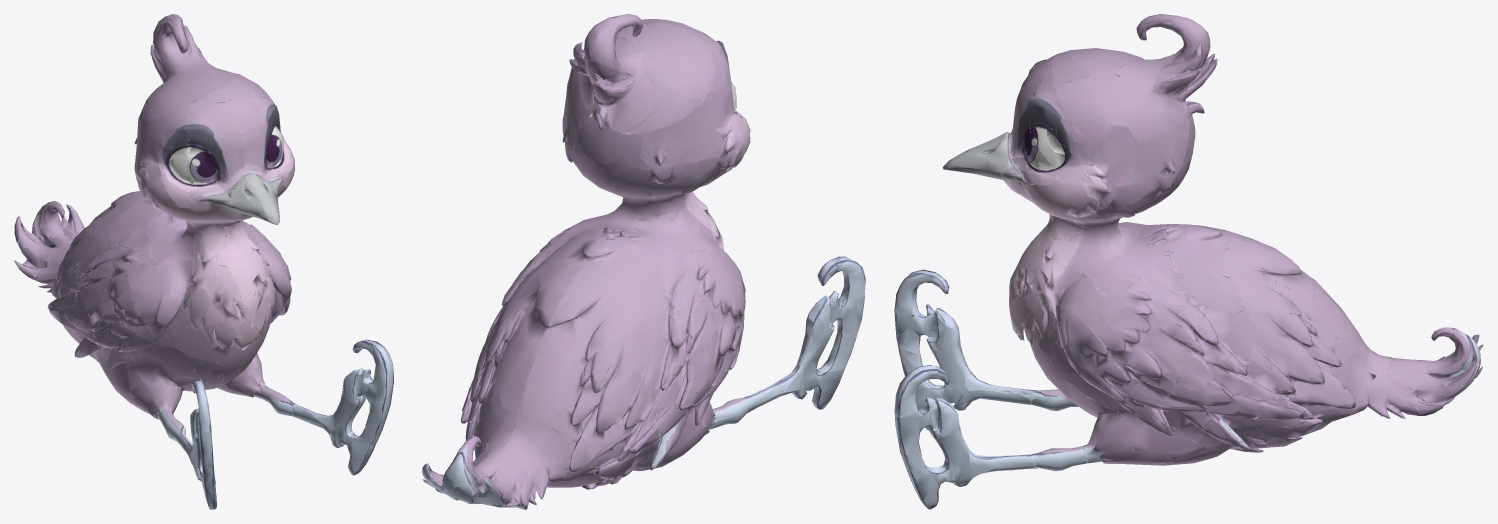
3 renders of one model, left to right at view 1: azimuth 30°, elevation 25°; view 2: azimuth 150°, elevation 25°; view 3: azimuth 270°, elevation 25°, orthographic. The views are drawn at different scales.
Parts seen in each view (by area): view 1: Mesh_0; view 2: Mesh_0; view 3: Mesh_0.
Part boxes in pixels (left/top/right/bottom): Mesh_0: left=14, top=14, right=393, bottom=509; Mesh_0: left=422, top=14, right=865, bottom=509; Mesh_0: left=894, top=14, right=1483, bottom=509.
Size of the model in its own units: 0.8256 by 1.61 by 1.9.
1 material, 1 textured.
